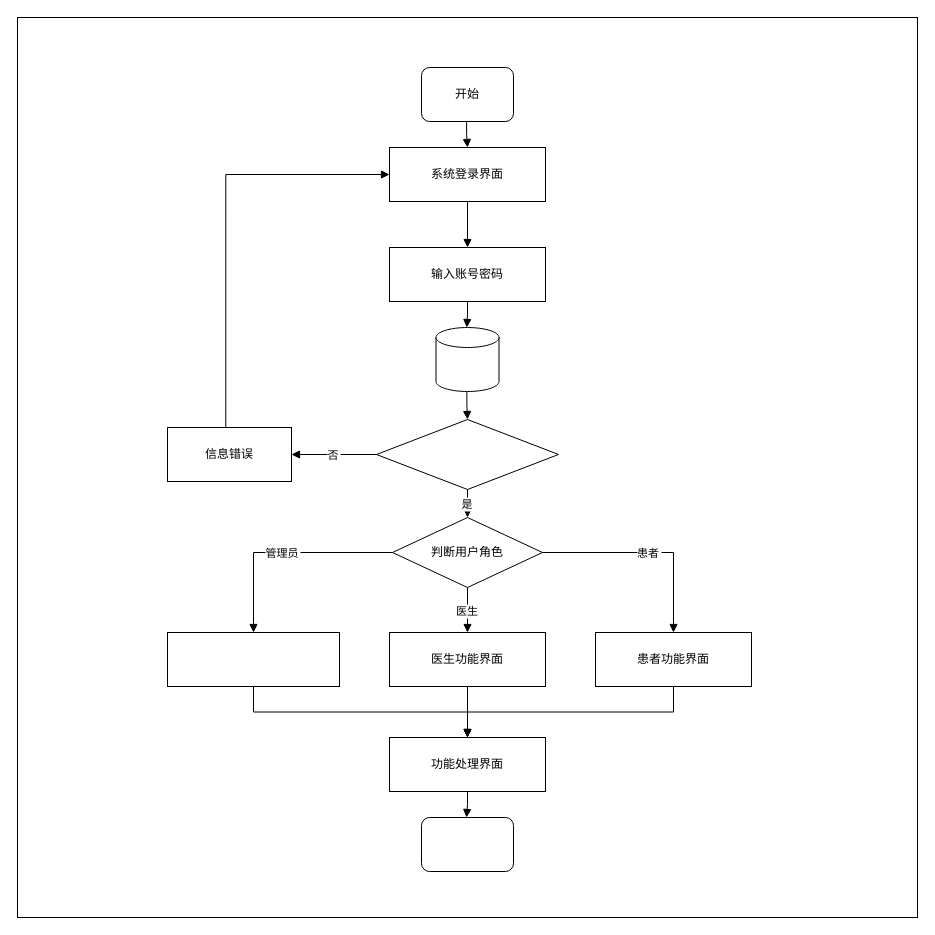
Image size: 935x935. Some labels were removed from this diagram. Here are the shapes that lost their labels. From the top down, the centre of each, then its label:
point (467, 359): 数据库
point (467, 454): 验证信息是否正确
point (253, 659): 管理员功能界面
point (467, 844): 结束
